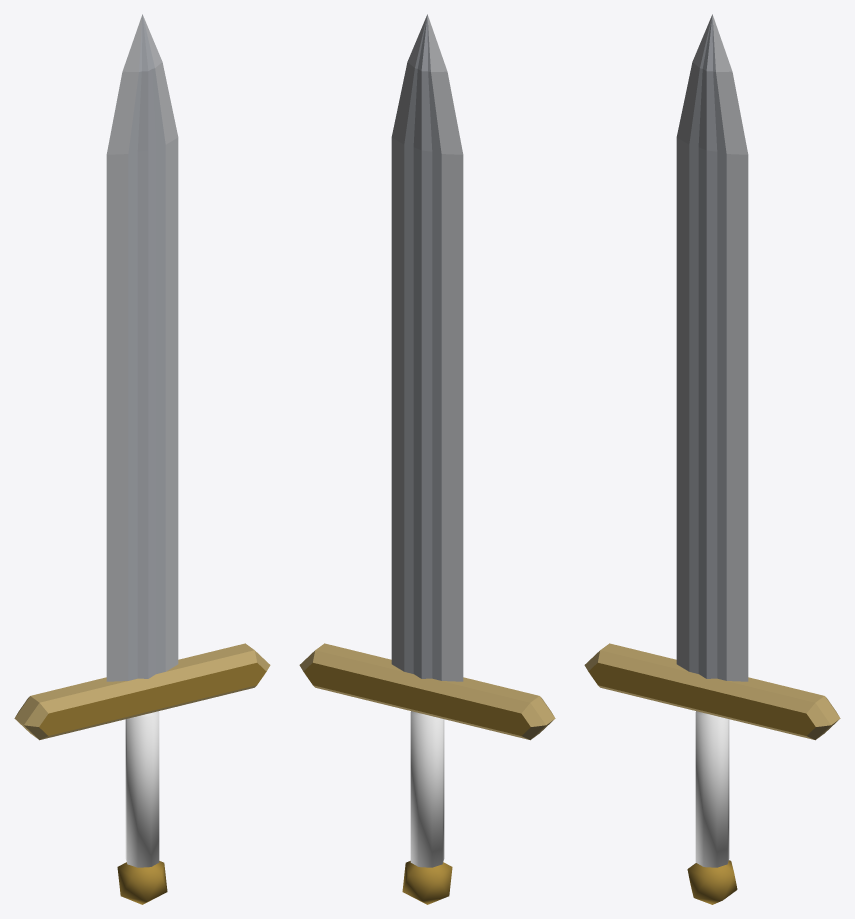
Rendered from cutlass.glb.
3 views of the same model, side by side, from view 1: azimuth 30°, elevation 25°; view 2: azimuth 150°, elevation 25°; view 3: azimuth 330°, elevation 25° (orthographic).
Parts seen in each view (by area): view 1: cutlass_v0; view 2: cutlass_v0; view 3: cutlass_v0.
Part boxes in pixels (bbox=[...]): cutlass_v0: bbox=[14, 14, 270, 904]; cutlass_v0: bbox=[299, 14, 555, 904]; cutlass_v0: bbox=[584, 14, 840, 904].
Size of the model in its own units: 0.344 by 1.19 by 0.0578.
